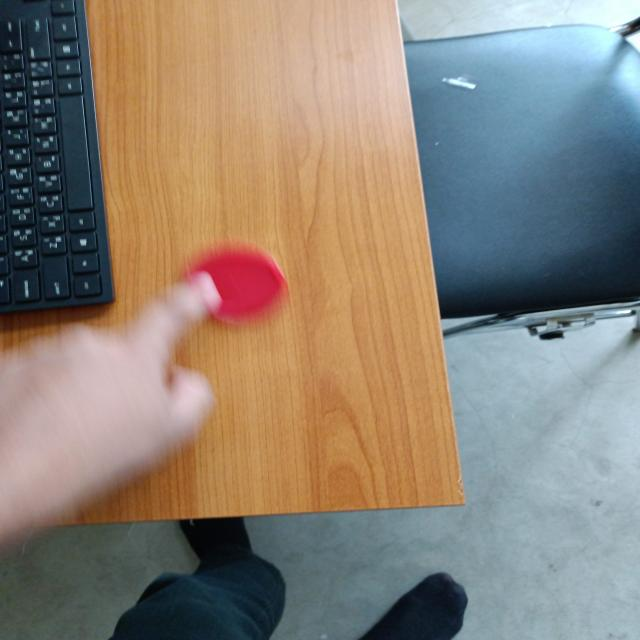chip: (178, 240, 294, 326)
